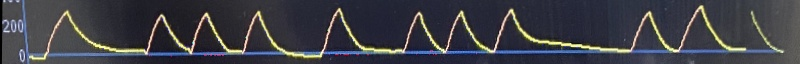normal_volume: (24, 2, 758, 62)
